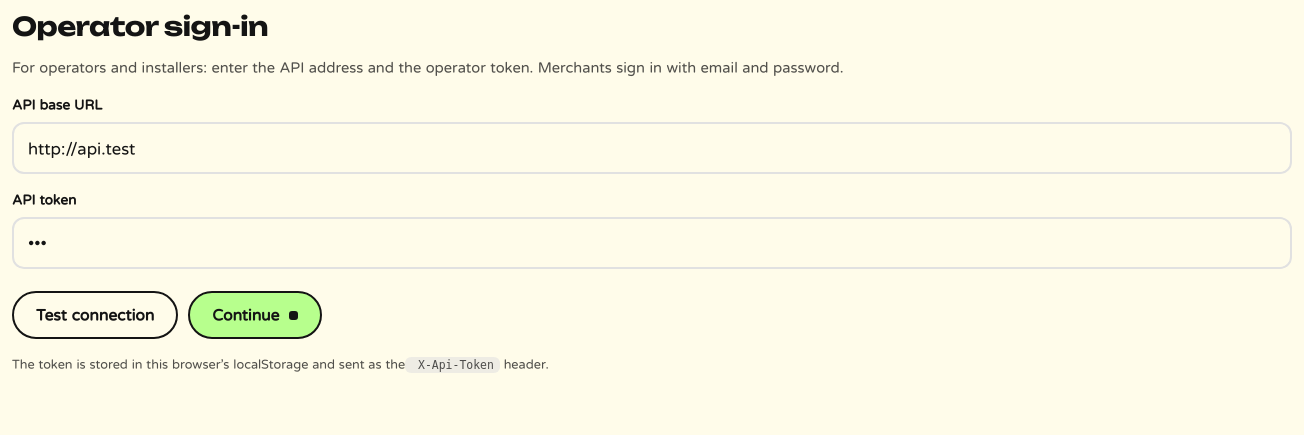
LoginSettings › reports a successful connection via /health
The image size is (1304, 435).
Click the button "Test connection". click: (95,315)
box: x1=12 y1=291 x2=178 y2=339
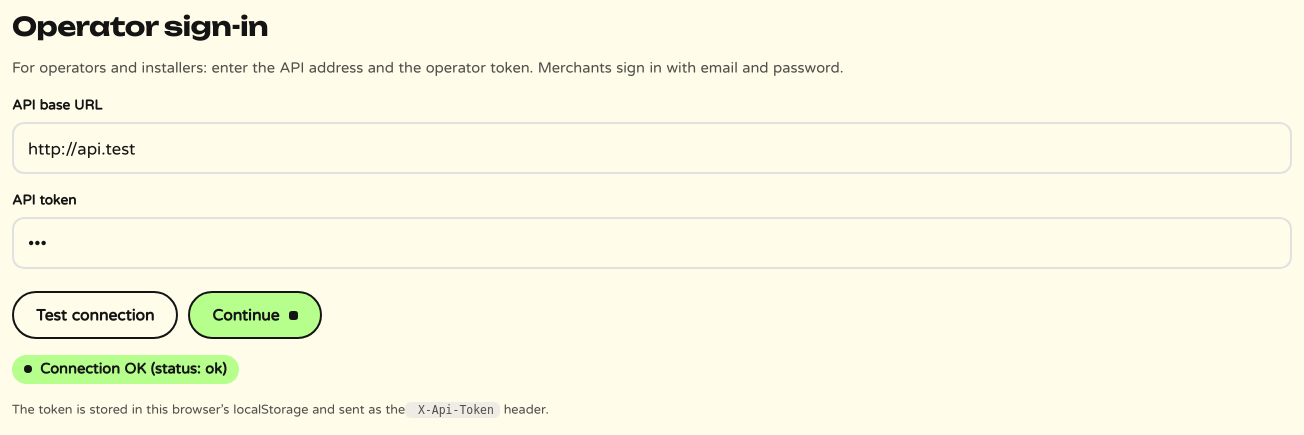
Result: the text "Connection OK (status: ok)" is shown at x1=12 y1=355 x2=238 y2=384
